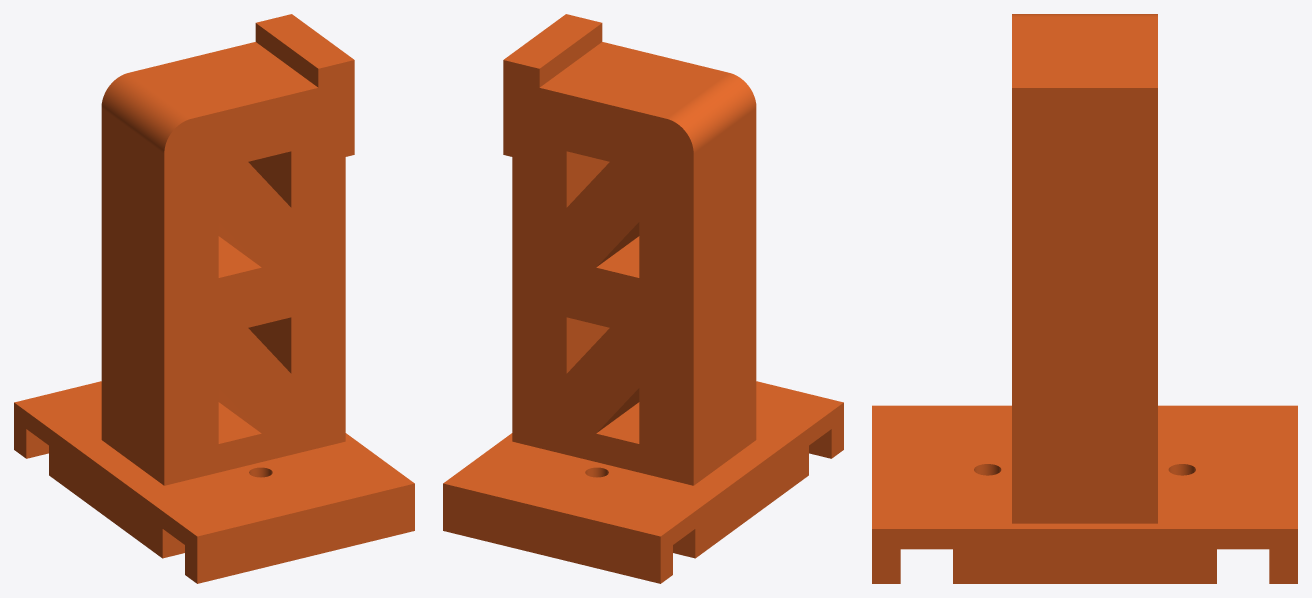
The model's file is 01-left.glb.
3 views of the same model, side by side, from view 1: azimuth 30°, elevation 25°; view 2: azimuth 150°, elevation 25°; view 3: azimuth 270°, elevation 25° (orthographic). The views are drawn at different scales.
Parts seen in each view (by area): view 1: left_solid; view 2: left_solid; view 3: left_solid.
Part boxes in pixels (<box>): left_solid: <box>14,14,414,583</box>; left_solid: <box>443,14,843,583</box>; left_solid: <box>872,14,1297,583</box>.
Bounding box in the file's own units: 48 × 90 × 70.
